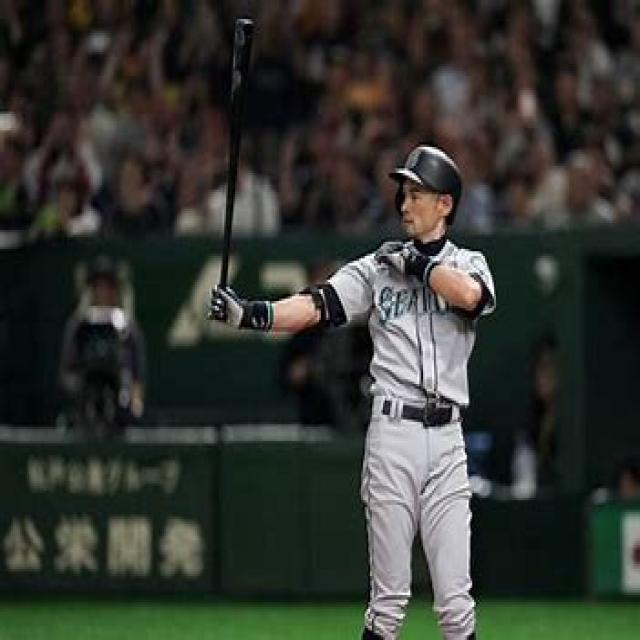bat: (214, 13, 259, 326)
